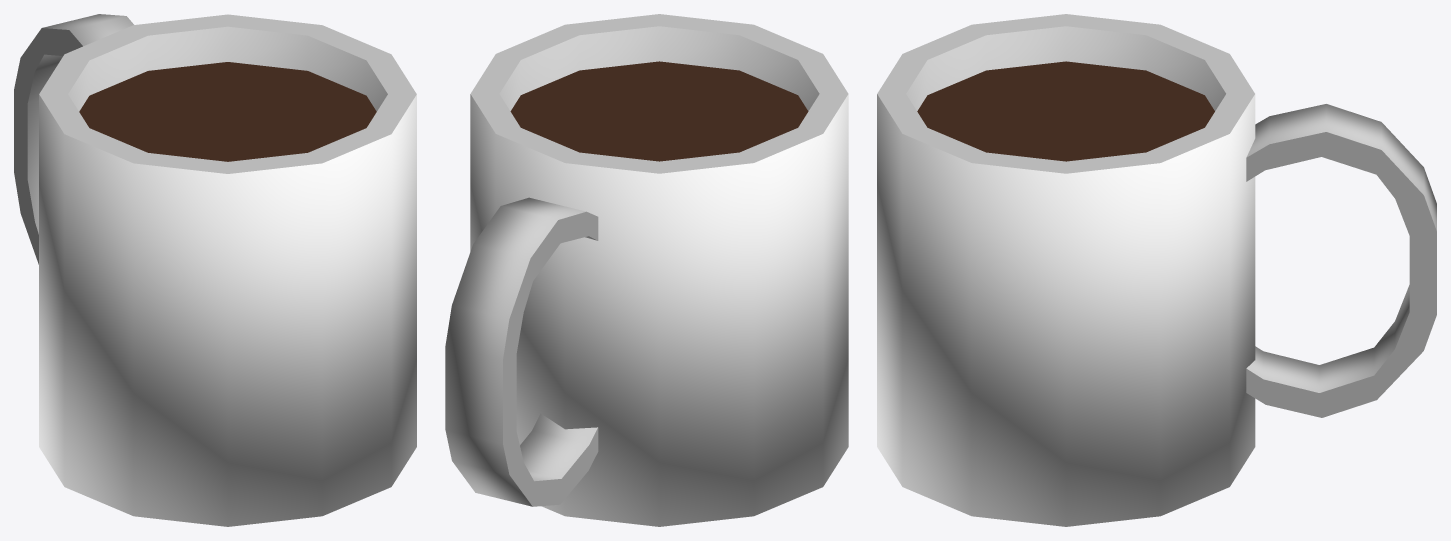
Rendered from full_teacup.gltf.
3 renders of one model, left to right at view 1: azimuth 30°, elevation 25°; view 2: azimuth 150°, elevation 25°; view 3: azimuth 270°, elevation 25°, orthographic.
Parts seen in each view (by area): view 1: Cup (Filled).002; view 2: Cup (Filled).002; view 3: Cup (Filled).002.
Part boxes in pixels (x1,y1,x2,y2): Cup (Filled).002: [14, 14, 416, 526]; Cup (Filled).002: [445, 14, 848, 526]; Cup (Filled).002: [877, 14, 1436, 526].
Bounding box in the file's own units: 0.1131 × 0.1166 × 0.1674.
Materials: 2 (1 with a texture image).
